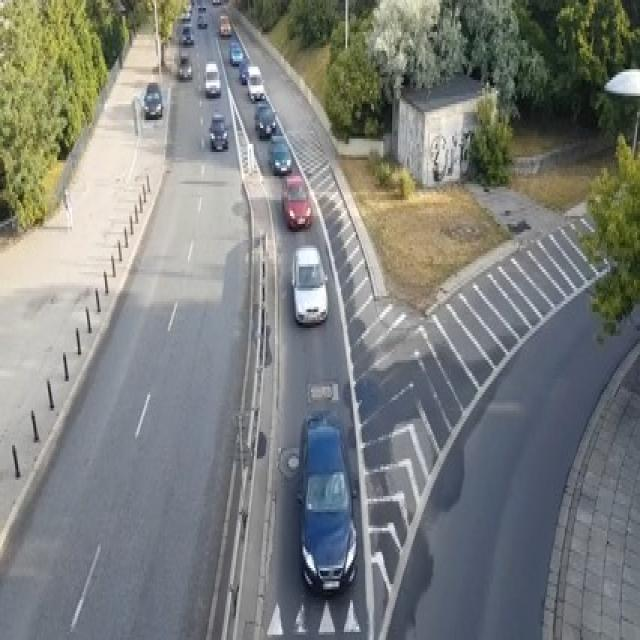car: (296, 408, 358, 595), (290, 246, 327, 326), (281, 173, 312, 230), (268, 134, 292, 174), (254, 101, 275, 139), (209, 112, 228, 149), (143, 80, 162, 117), (247, 64, 264, 101), (204, 61, 221, 96), (178, 53, 192, 80), (228, 40, 242, 64), (238, 56, 250, 83), (180, 24, 194, 43), (220, 13, 232, 35), (197, 13, 207, 27), (180, 11, 191, 21), (197, 5, 206, 14), (212, 0, 221, 3)
